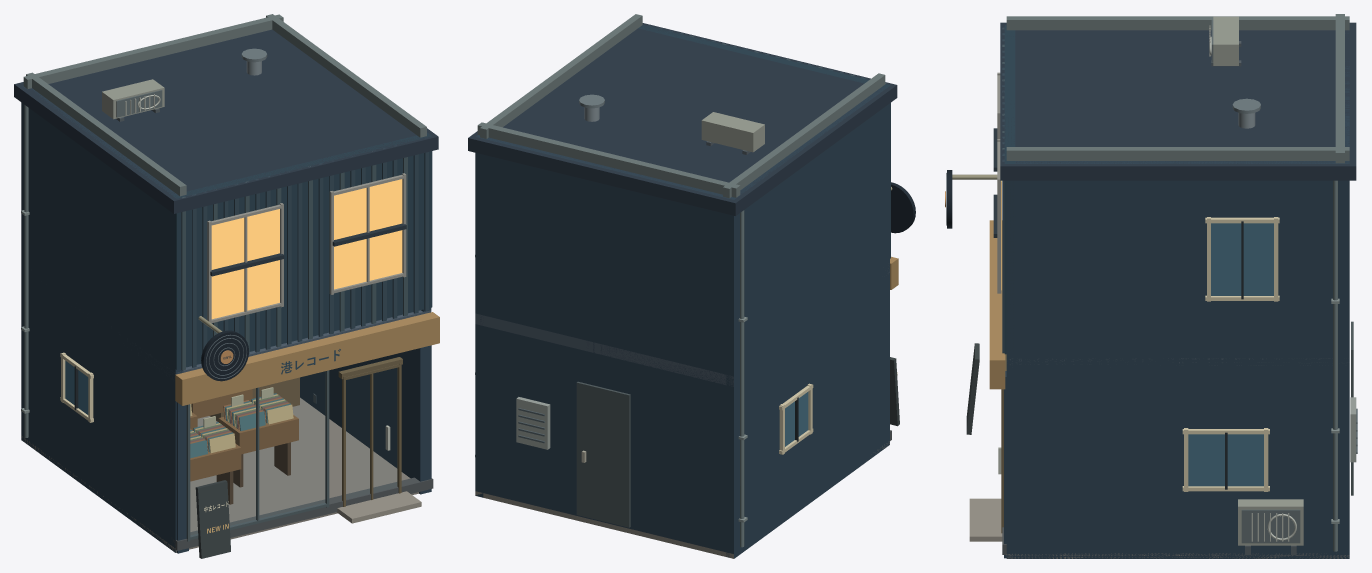
File: record.glb
3 views of the same model, side by side, from view 1: azimuth 30°, elevation 25°; view 2: azimuth 150°, elevation 25°; view 3: azimuth 270°, elevation 25° (orthographic). The views are drawn at different scales.
Parts seen in each view (by area): view 1: 港唱片店, 室外空调机; view 2: 港唱片店, 室外空调机; view 3: 港唱片店, 室外空调机 (×2).
Part boxes in pixels (bbox=[...]): 港唱片店: bbox=[14, 14, 439, 558]; 室外空调机: bbox=[102, 79, 164, 121]; 港唱片店: bbox=[468, 14, 915, 558]; 室外空调机: bbox=[701, 112, 764, 154]; 港唱片店: bbox=[945, 14, 1357, 558]; 室外空调机 (×2): bbox=[1209, 16, 1303, 555].
Bounding box in the file's own units: 4.98 × 6.49 × 5.79.
Materials: 79 (10 with a texture image).
